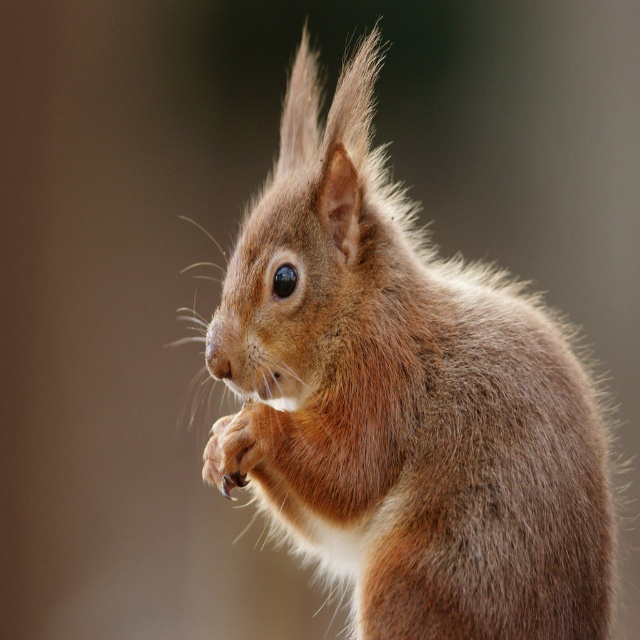Rabbit: (171, 22, 630, 639)
